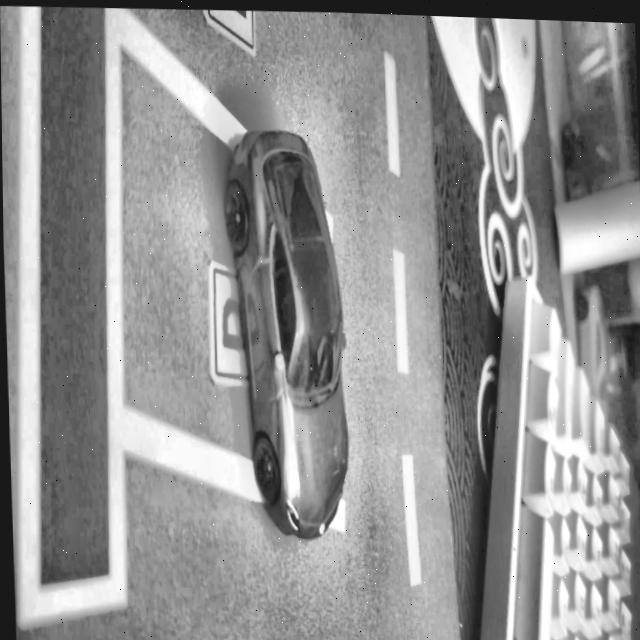car: (218, 122, 350, 539)
